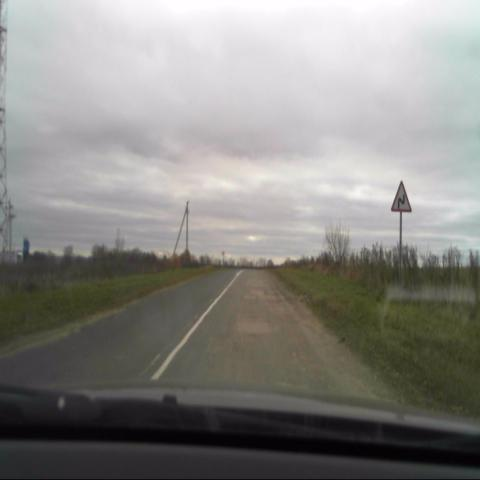1_12: (390, 179, 413, 213)
